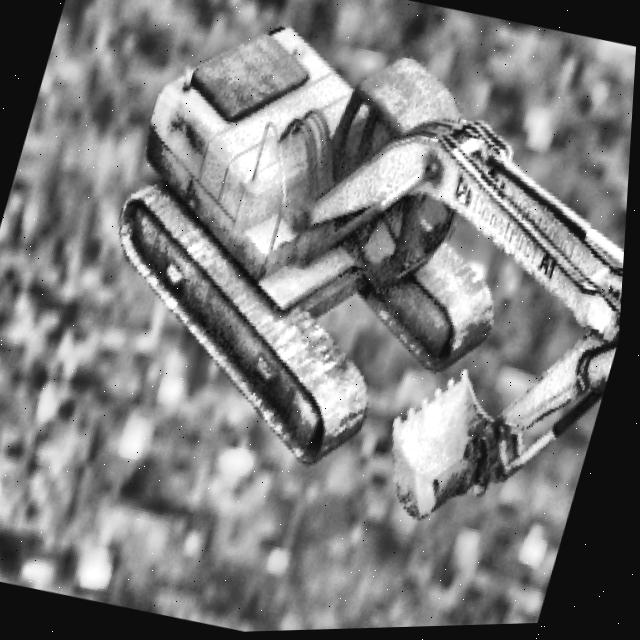excavator: (54, 0, 640, 561)
